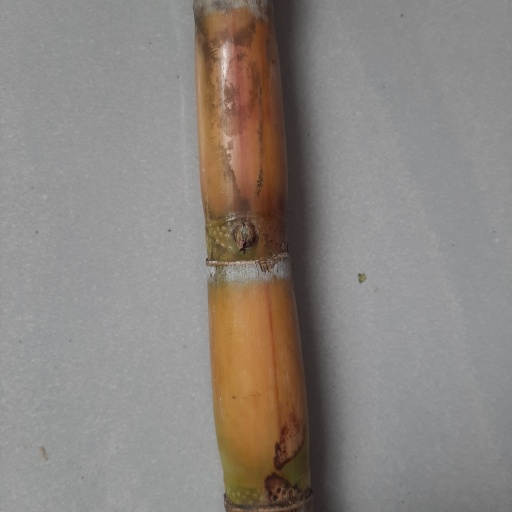Bud: (232, 219, 258, 253)
